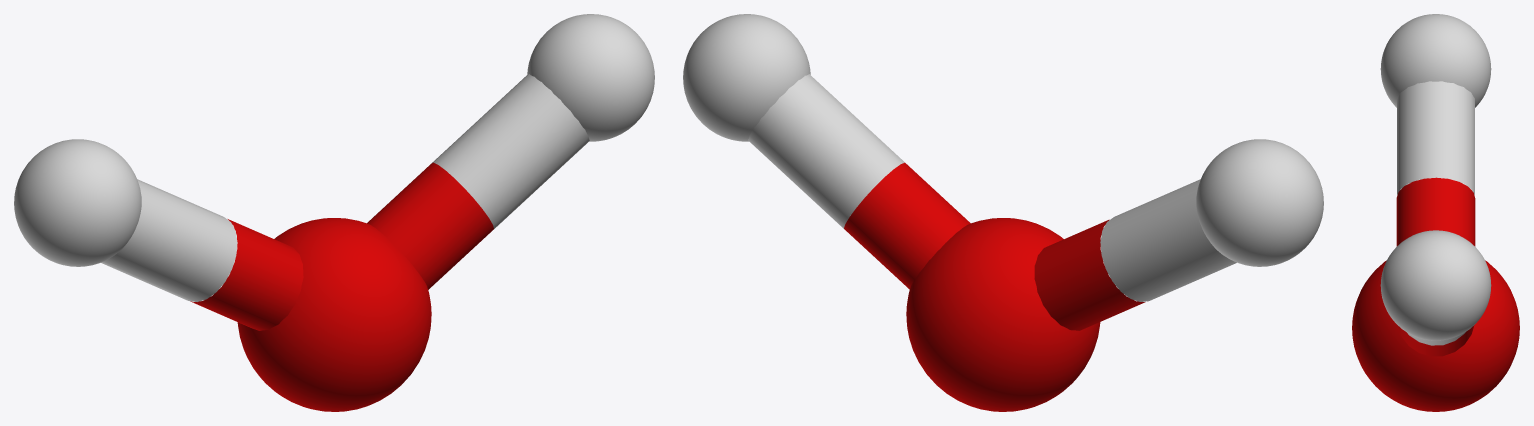
The picture shows the model from 3 angles, left to right: view 1: azimuth 30°, elevation 25°; view 2: azimuth 150°, elevation 25°; view 3: azimuth 270°, elevation 25°; orthographic projection. The views are drawn at different scales.
Visible parts, largest first — view 1: vmd_mol0_rep1; view 2: vmd_mol0_rep1; view 3: vmd_mol0_rep1.
Part boxes in pixels (box(x1,y1,x2,y2)): vmd_mol0_rep1: box(14, 14, 654, 411); vmd_mol0_rep1: box(683, 14, 1323, 411); vmd_mol0_rep1: box(1352, 14, 1519, 411).
Bounding box in the file's own units: 1.82 × 0.8952 × 0.492.
